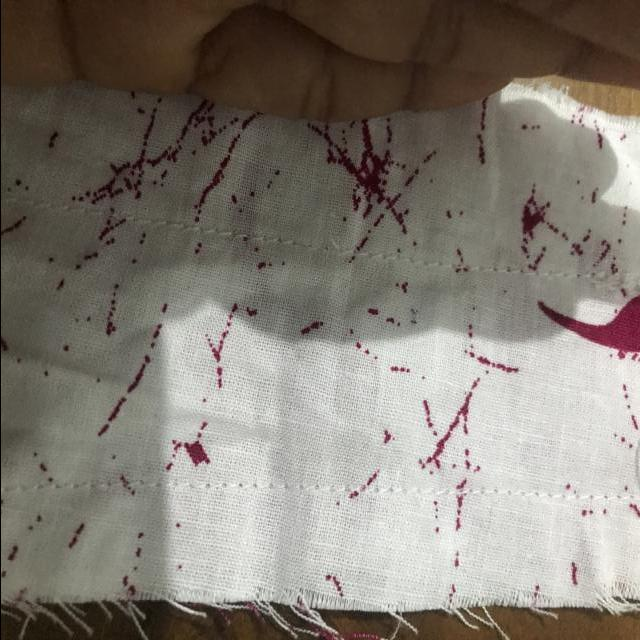Broken: (275, 215, 359, 284)
